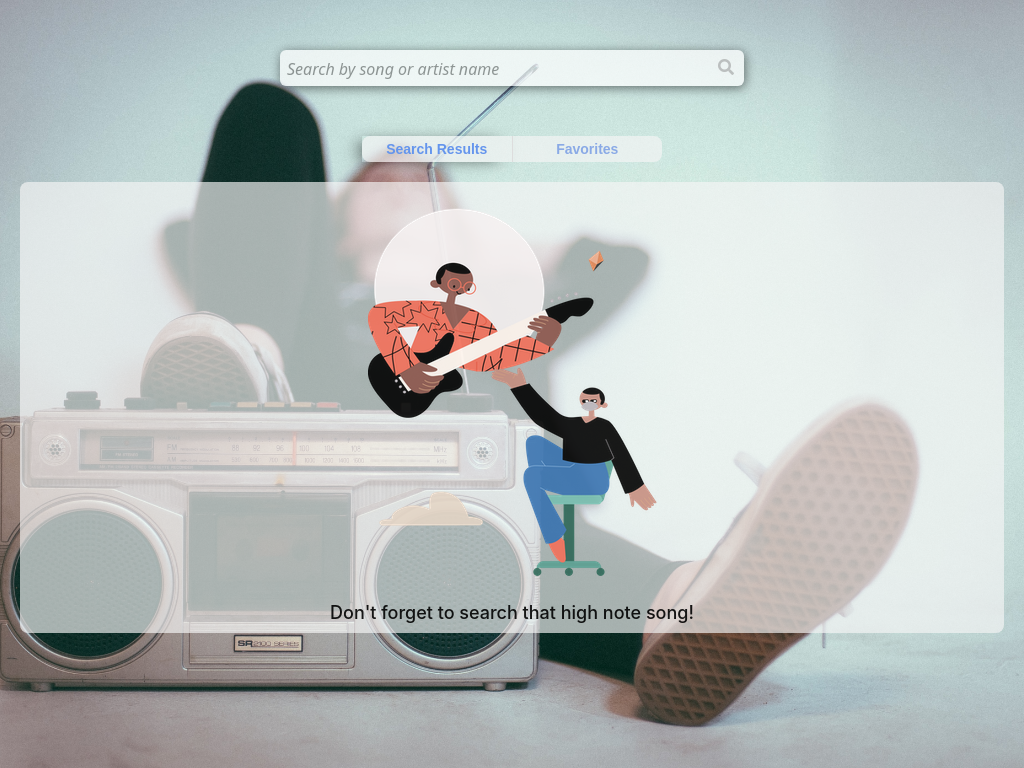
Test: LYRIC APP CONTAINER › clears the search text when clicked on cross icon
Type "arijit" into the field with placeholder "Search by song or artist name".
click(512, 68); type("arijit")  # box [280,50,744,86]
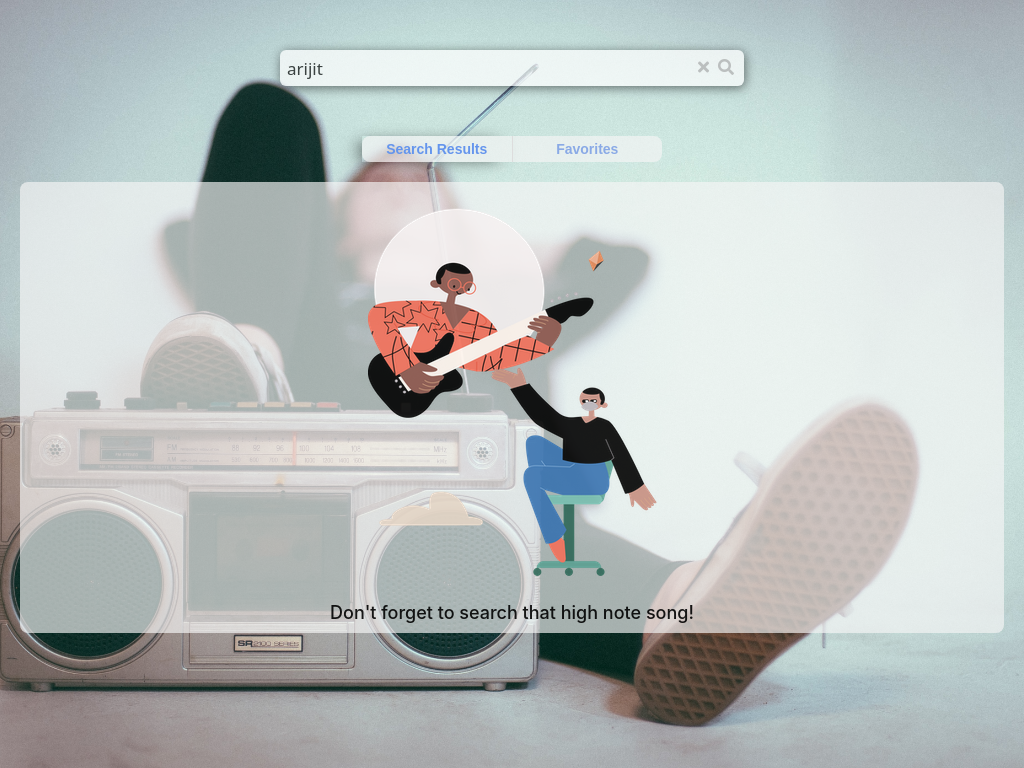
Click the 1st icon with test id "clear-icon".
click(704, 67)  # box [698,59,709,75]
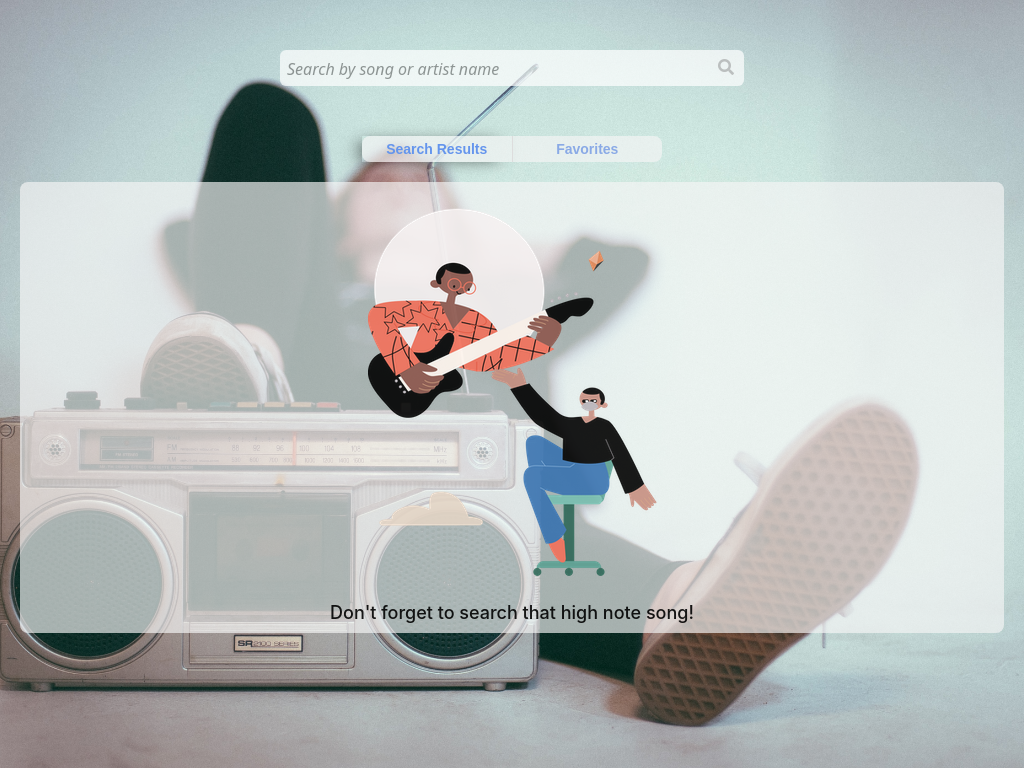
Expected: the field with placeholder "Search by song or artist name" is empty, [280,50,744,86]
